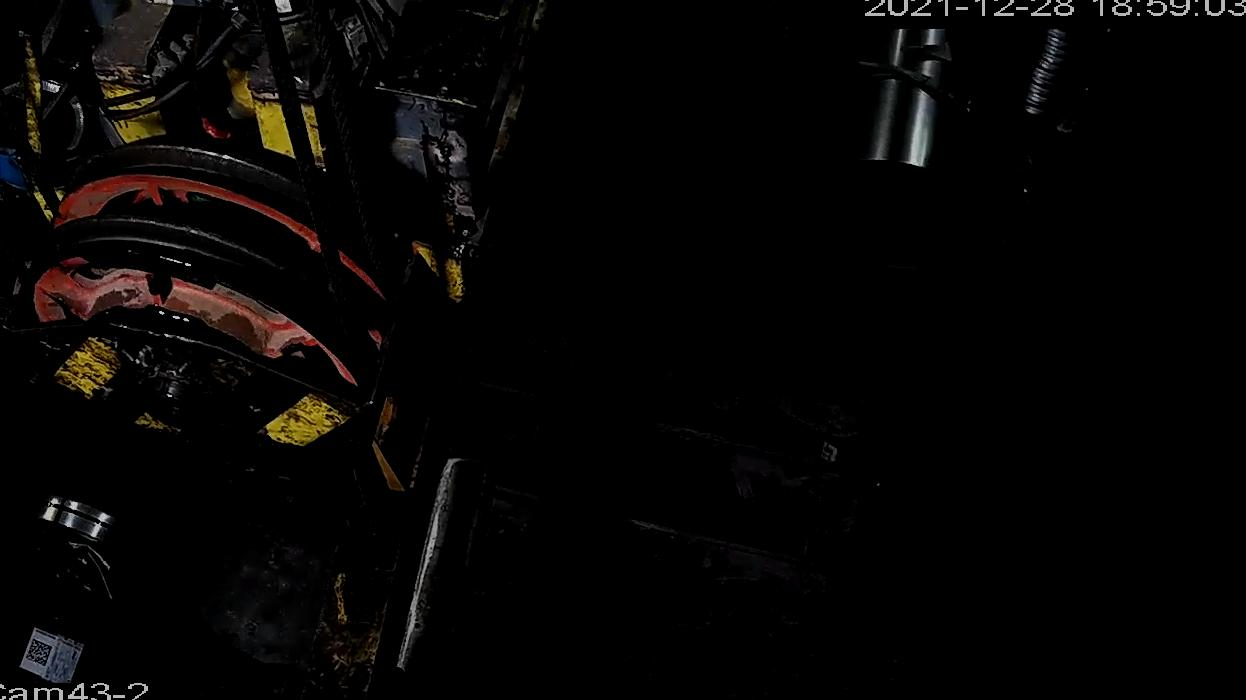data matrix: (24, 636, 55, 670)
